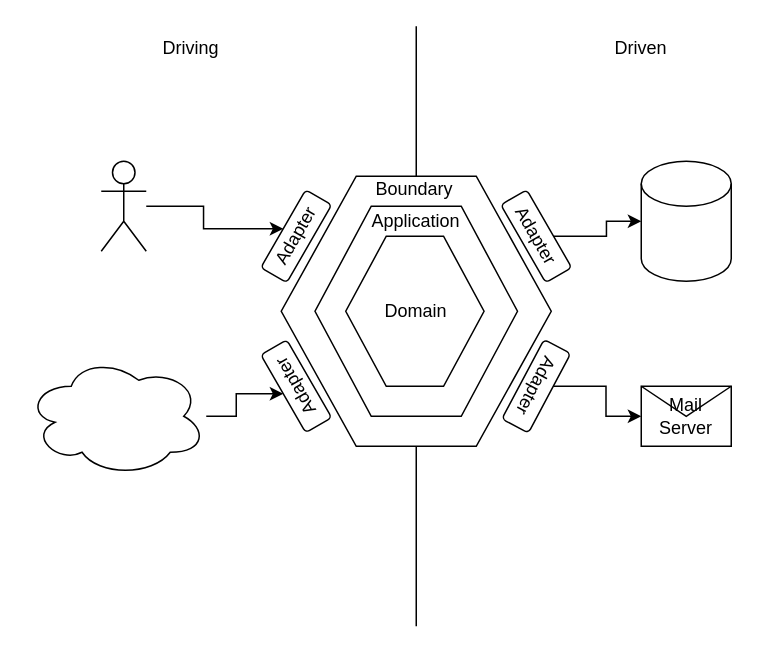
Image size: 758x654. Some labels were removed from this diagram. The shapes that lost their labels are listed below. From the top down, each one's centre as x and y in pixels, then its label:
At point (123, 205): "User".
At point (685, 220): "DB".
At point (115, 415): "IoT".
